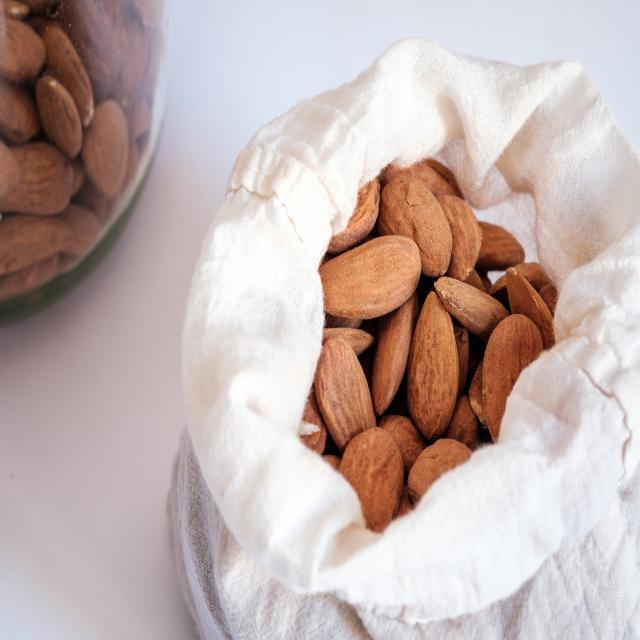almond: (317, 232, 422, 322), (407, 292, 460, 438), (380, 175, 453, 277), (483, 313, 540, 440), (368, 297, 420, 418), (318, 335, 372, 440), (343, 430, 400, 522), (0, 151, 78, 215), (30, 74, 83, 159), (433, 279, 510, 334), (0, 72, 45, 147), (0, 18, 48, 74)
